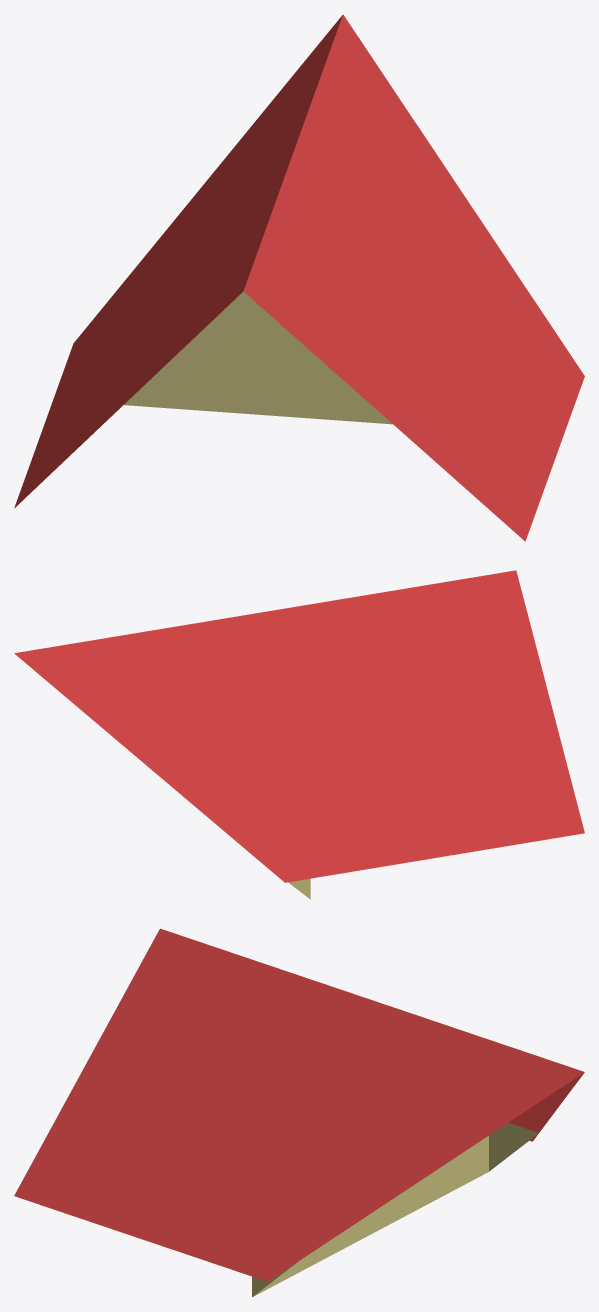
3 views of the same model, one above another, from view 1: azimuth 30°, elevation 25°; view 2: azimuth 150°, elevation 25°; view 3: azimuth 270°, elevation 25° (orthographic). The views are drawn at different scales.
Size of the model in its own units: 5.62 by 6.01 by 2.61.
